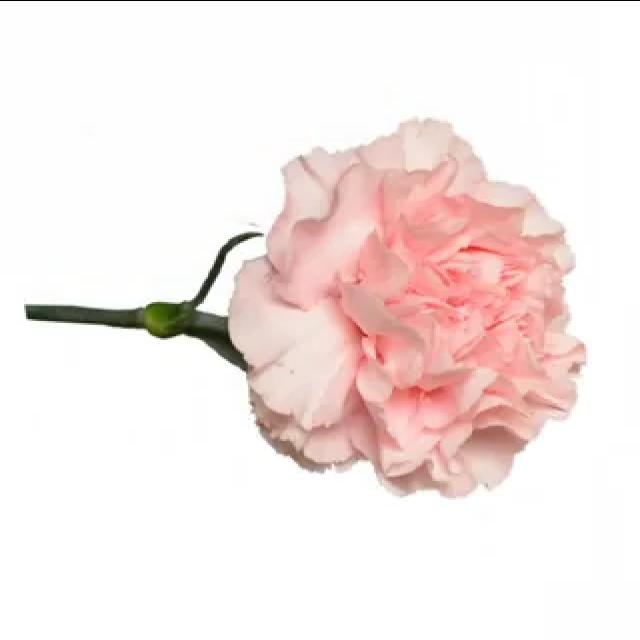carnation: (221, 115, 607, 498)
